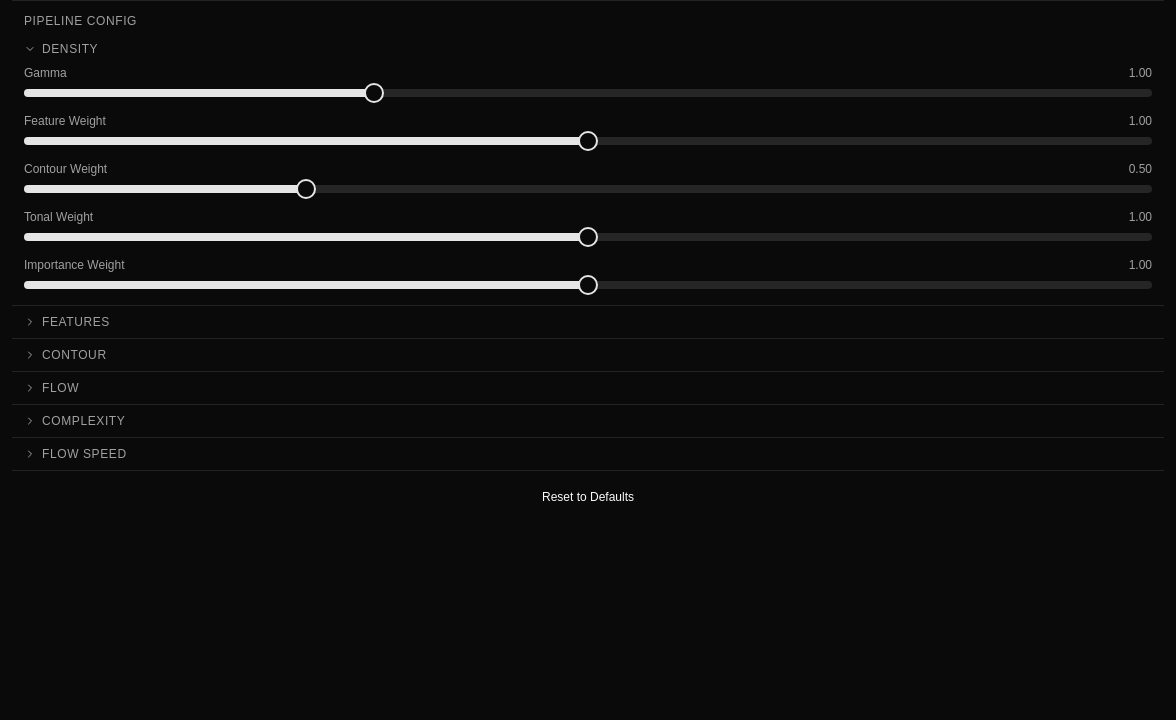
Test: MapPipelineConfig › opens collapsed sections on click
Click the button "Features".
click(76, 322)  # box [12,306,1164,338]
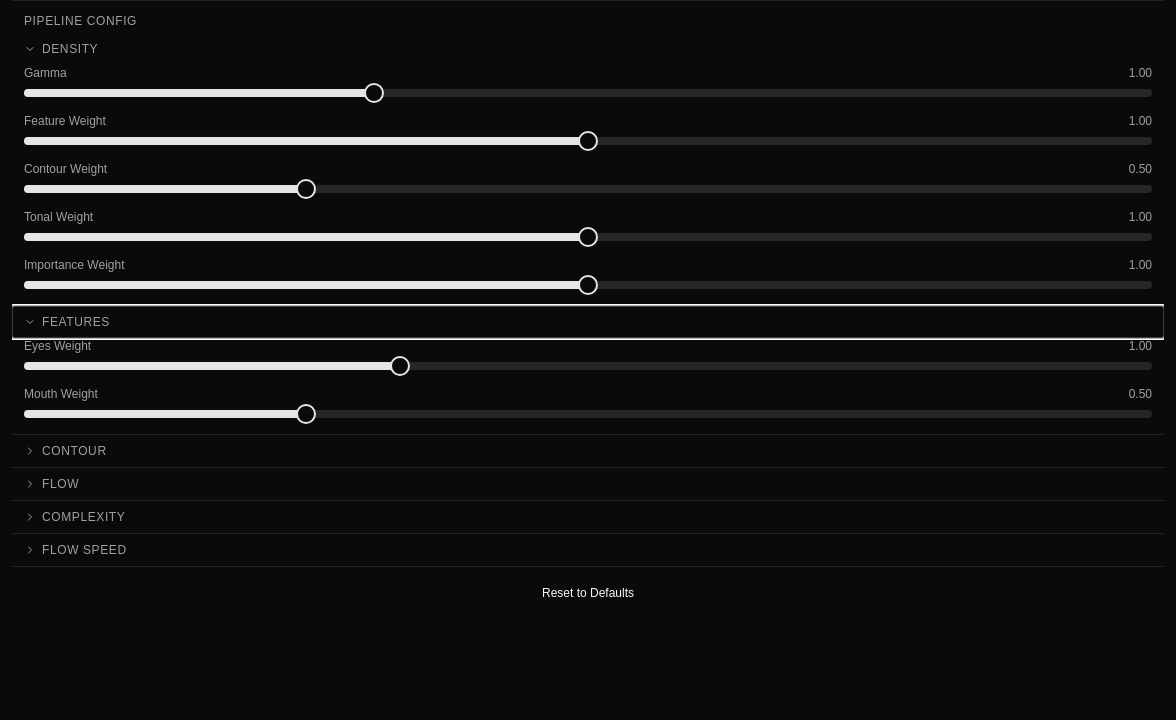
Check: the text "Eyes Weight" is shown, box [24,338,91,354]
